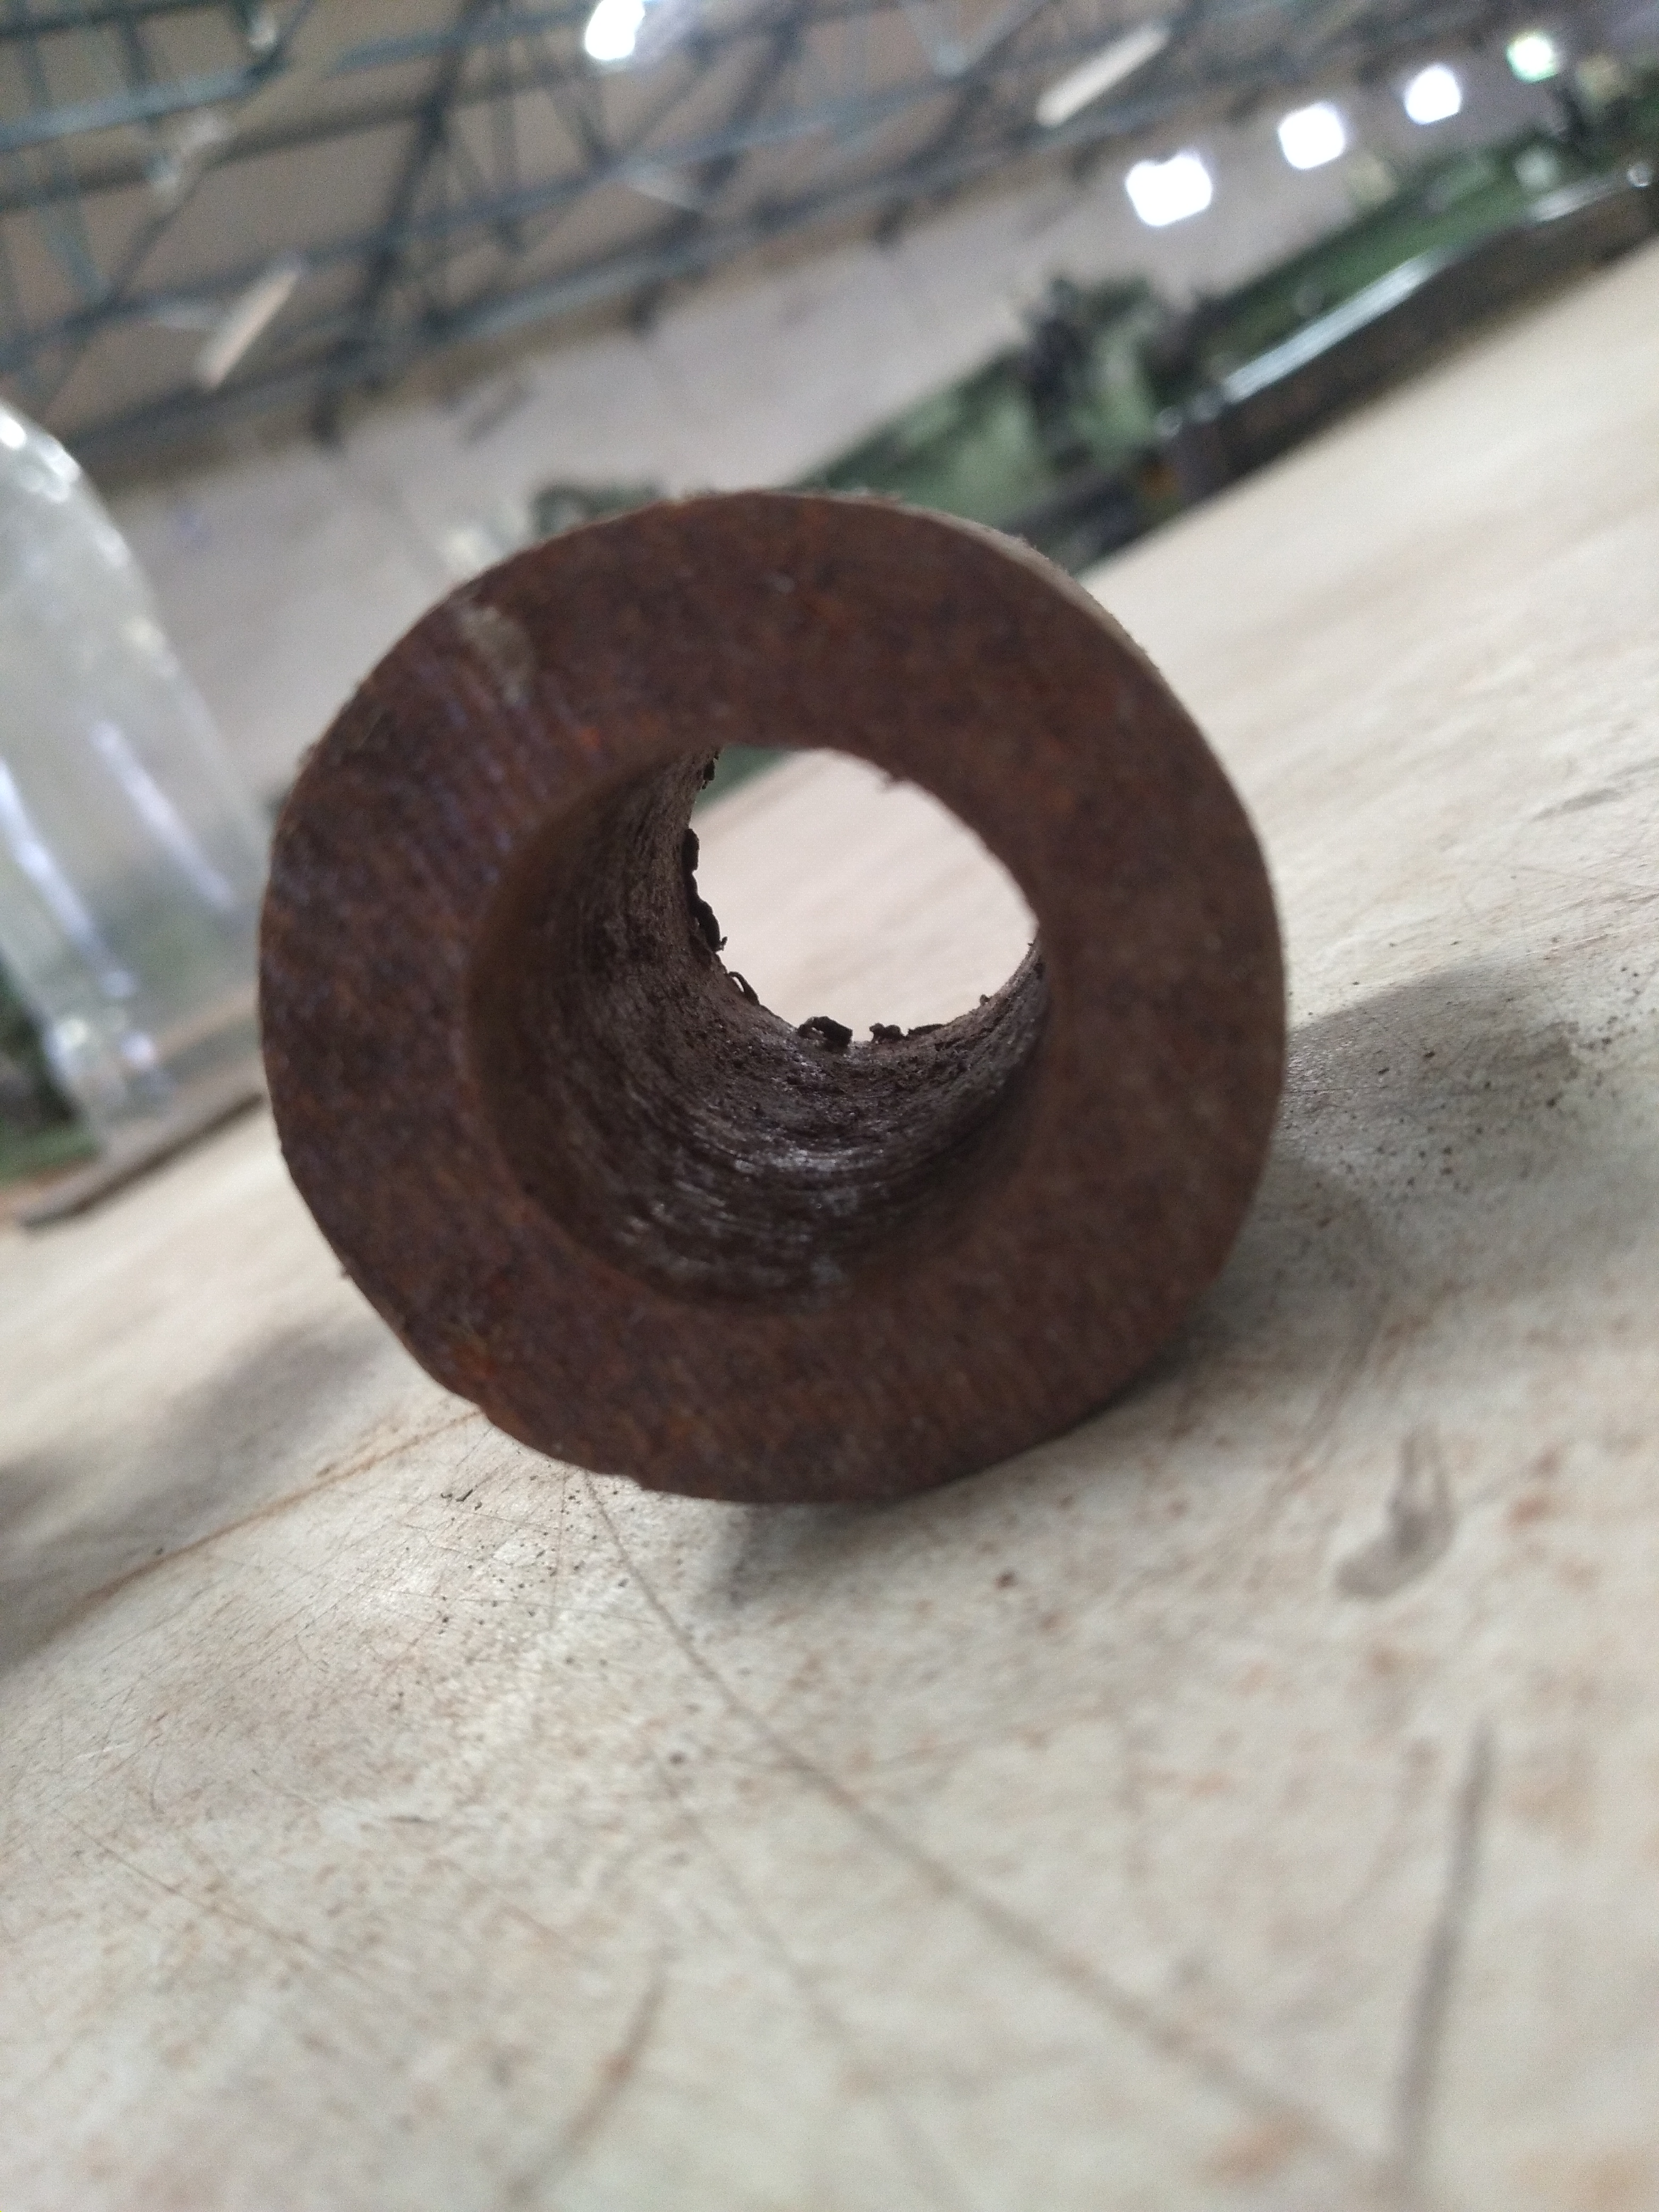No thread: (423, 695, 1131, 1336)
